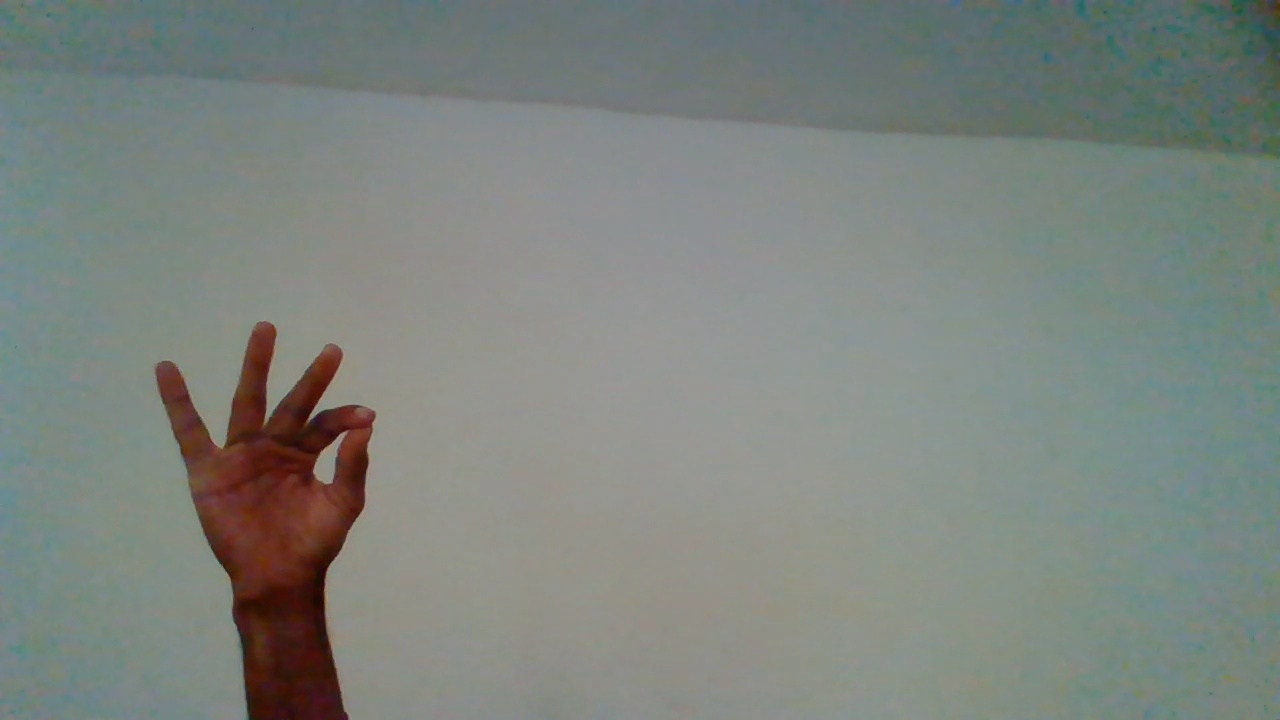le: (157, 324, 384, 694)
